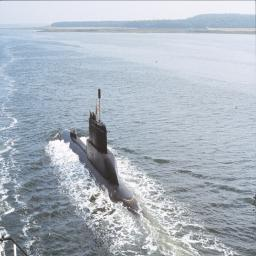submarine: (58, 120, 144, 219)
